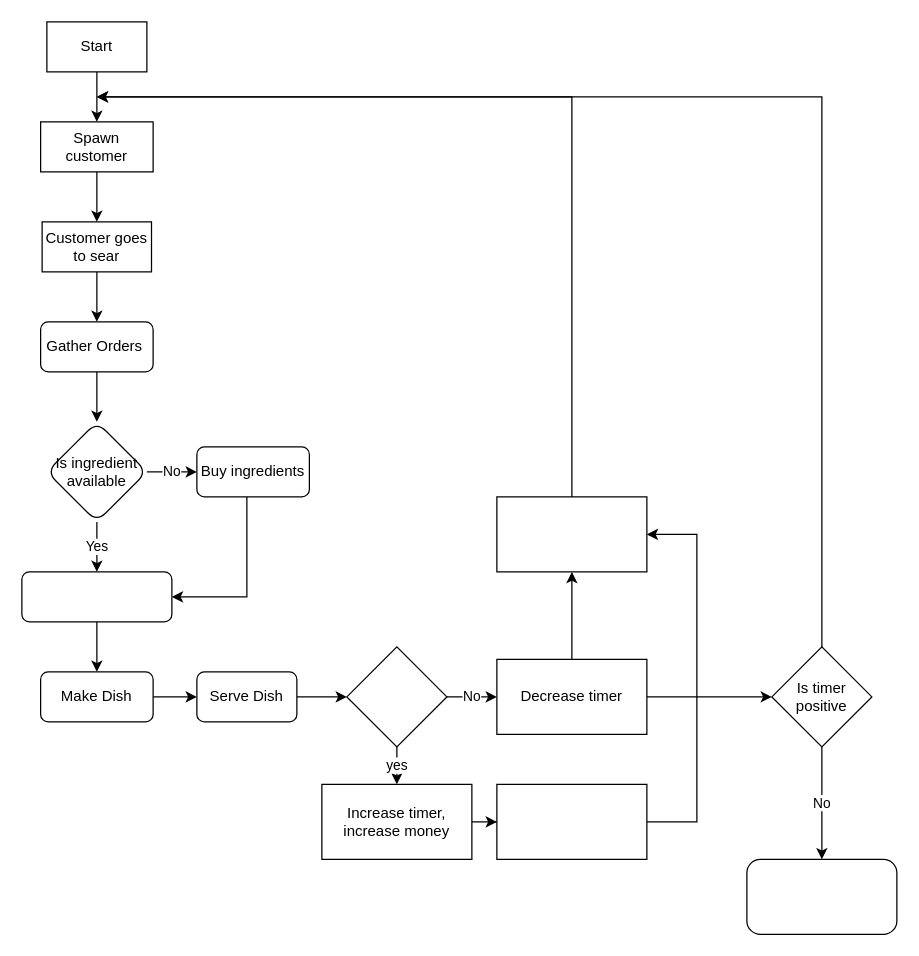
The diagram is 919 pixels wide and 956 high, and some of its shapes have lost their labels. The shapes that lost their labels are listed below. From the top down, each one's centre as x and y in pixels, then its label:
pixel 571 534: Customer leaves
pixel 96 596: Process Ingredients
pixel 396 696: Is the dish correct?
pixel 571 821: Customer requests for another dish
pixel 821 896: End
